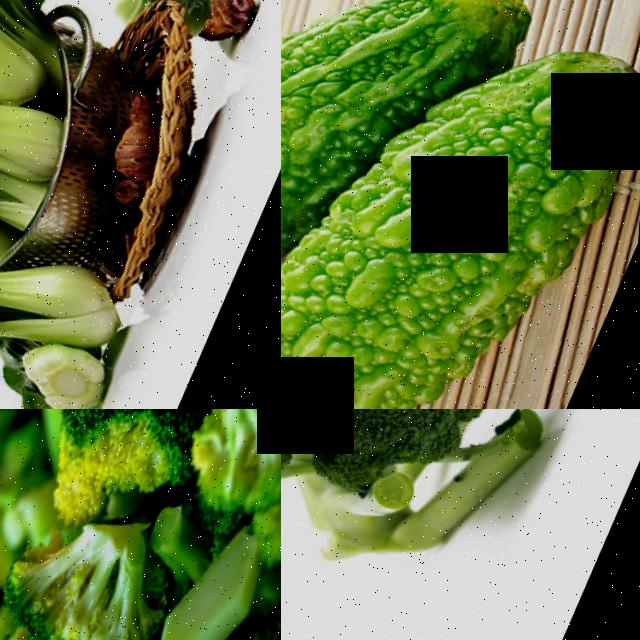bitter gourd: (281, 97, 622, 409), (281, 0, 376, 358)
bok choy: (0, 192, 158, 375), (0, 27, 84, 198), (0, 335, 136, 409)
broccoli: (281, 409, 640, 610), (21, 409, 240, 548), (0, 498, 175, 640), (176, 409, 281, 552)
